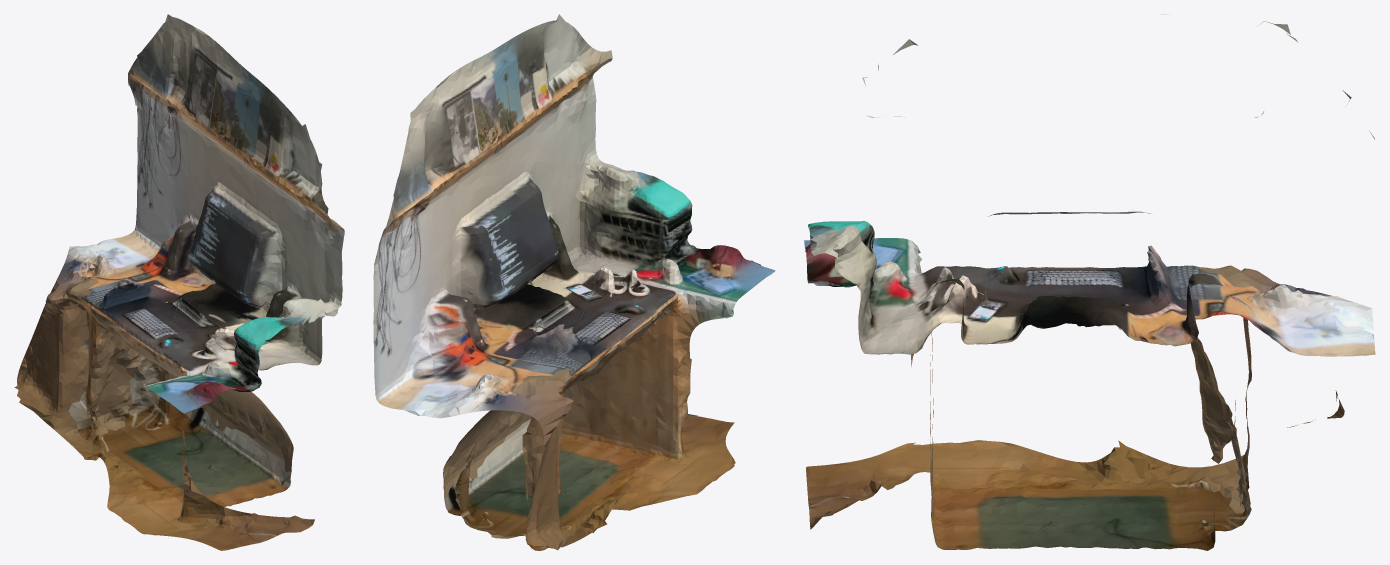
The picture shows the model from 3 angles, left to right: view 1: azimuth 30°, elevation 25°; view 2: azimuth 150°, elevation 25°; view 3: azimuth 270°, elevation 25°; orthographic projection. The views are drawn at different scales.
Size of the model in its own units: 0.8877 by 2 by 1.9.
1 material, 1 textured.
